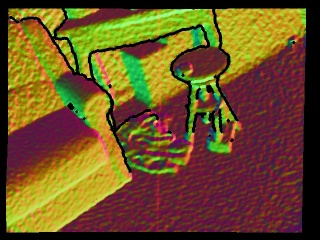station: (207, 96, 238, 154)
